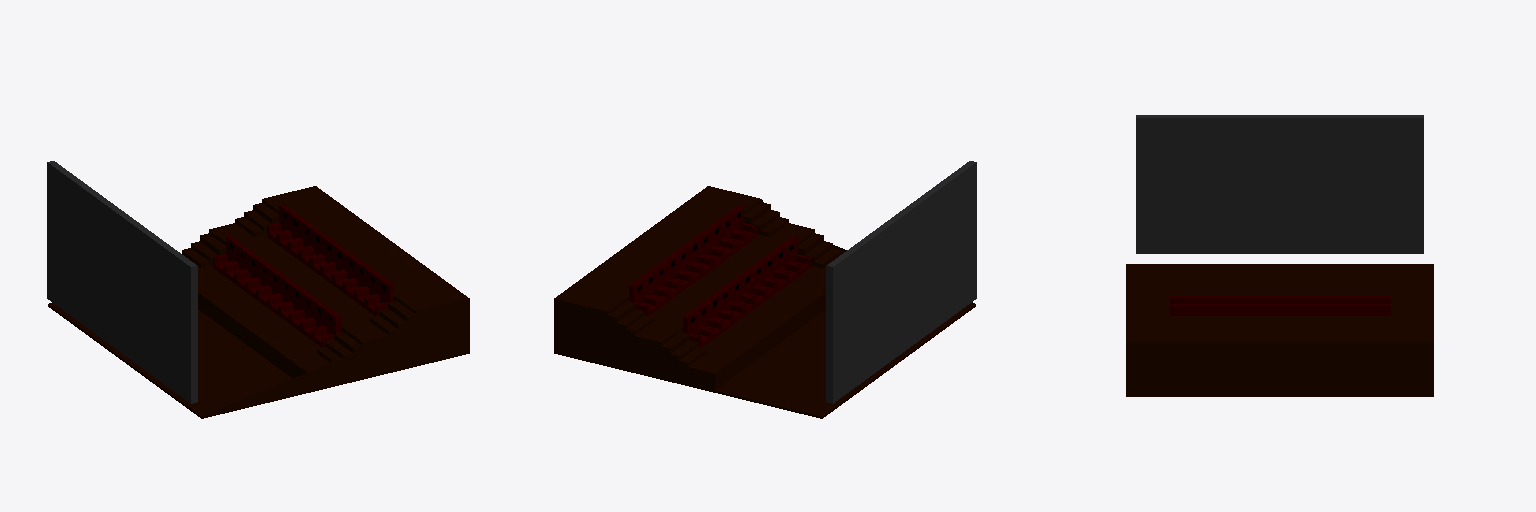
File: cinemavrar.obj
The picture shows the model from 3 angles: view 1: azimuth 30°, elevation 25°; view 2: azimuth 150°, elevation 25°; view 3: azimuth 270°, elevation 25°; orthographic projection.
Visible parts, largest first — view 1: Cube.001, Cube, Cube.011_Cube.015, Cube.012; view 2: Cube.001, Cube, Cube.021_Cube.023, Cube.002; view 3: Cube, Cube.001.
Part boxes in pixels (x1,y1,x2,y2): Cube.001: (48,186,469,418); Cube: (47,161,197,403); Cube.011_Cube.015: (366,277,393,315); Cube.012: (312,309,340,346); Cube.001: (554,186,975,418); Cube: (826,161,976,403); Cube.021_Cube.023: (629,277,657,315); Cube.002: (683,309,710,346); Cube: (1136,115,1423,253); Cube.001: (1126,264,1433,396).
Bounding box in the file's own units: 43.08 × 22.45 × 42.03.